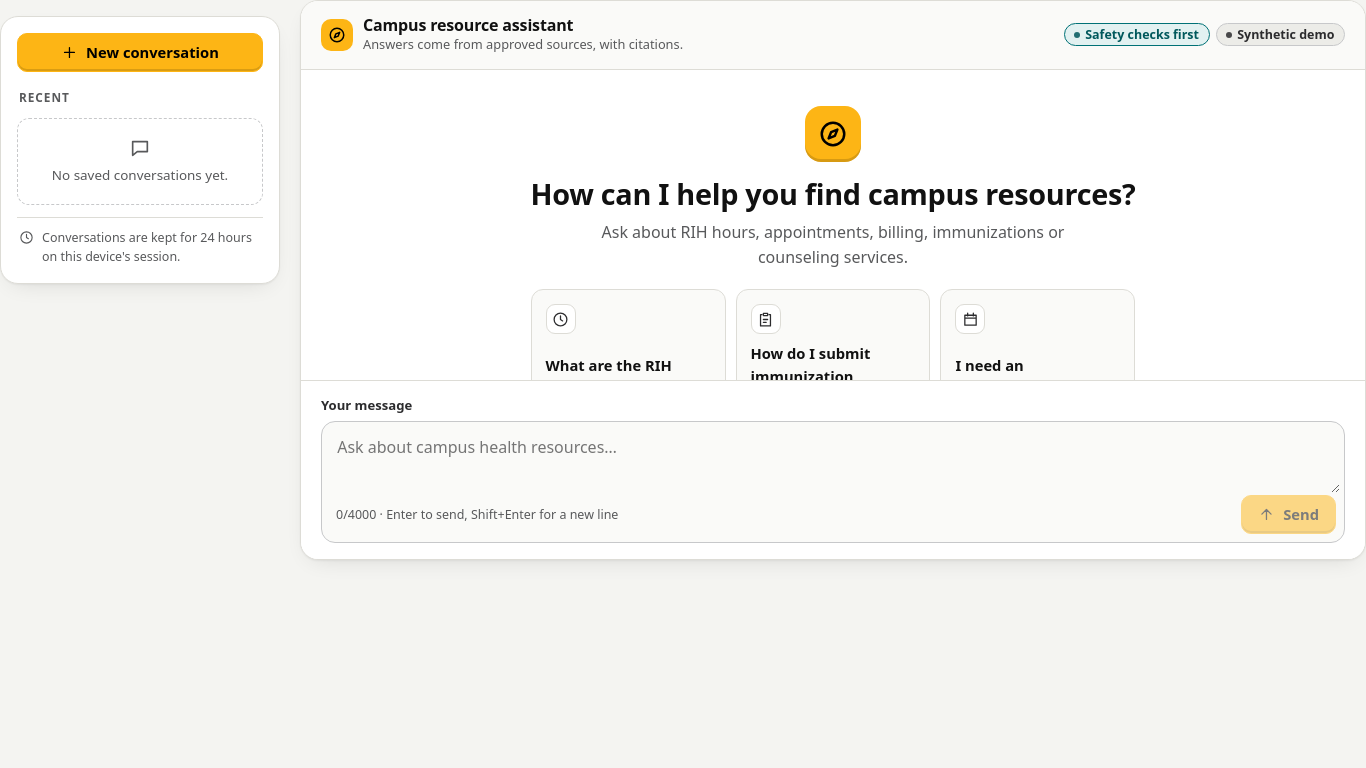
it: ChatView › creates a session on first send, shows the reply with citations, and sends CSRF
The width and height of the screenshot is (1366, 768).
Type "What are the RIH hours?" into the text box labelled "Your message" at (833, 460), box [326, 426, 1340, 493]
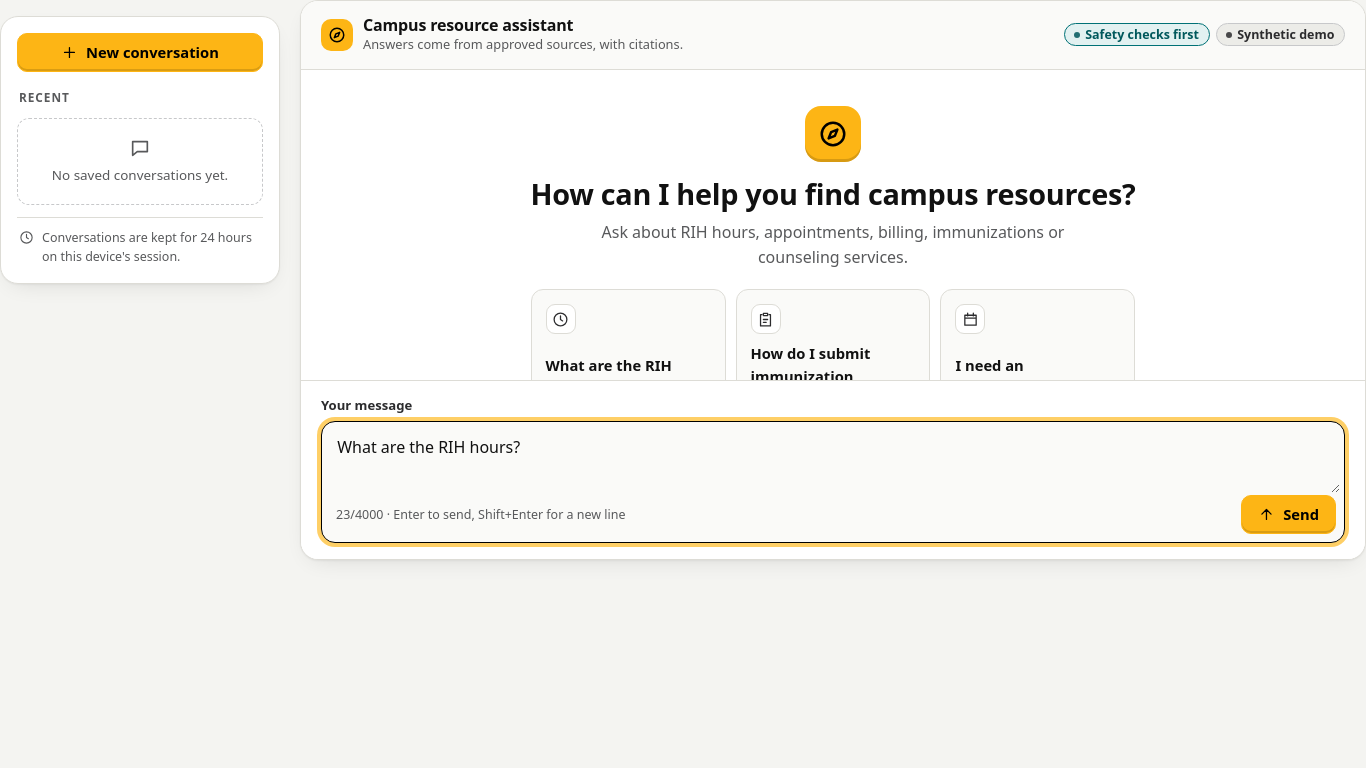
Click the button "Send" at (1289, 515), box [1241, 495, 1336, 534]
(page scrolled)
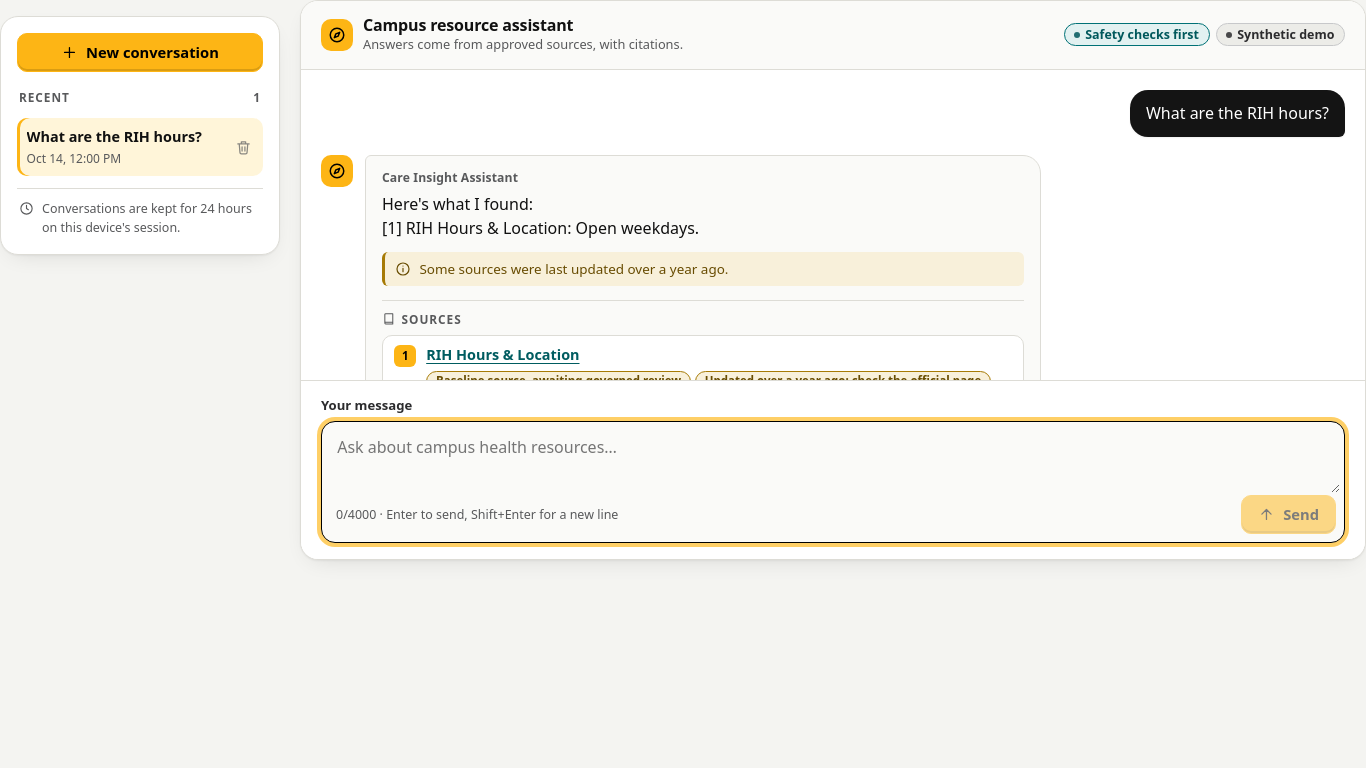
Expected: the text "Some sources were last updated over a year ago." is shown, [419, 259, 728, 280]
Expected: the text "What are the RIH hours?" below "Safety checks first" is shown, [1146, 102, 1329, 124]
